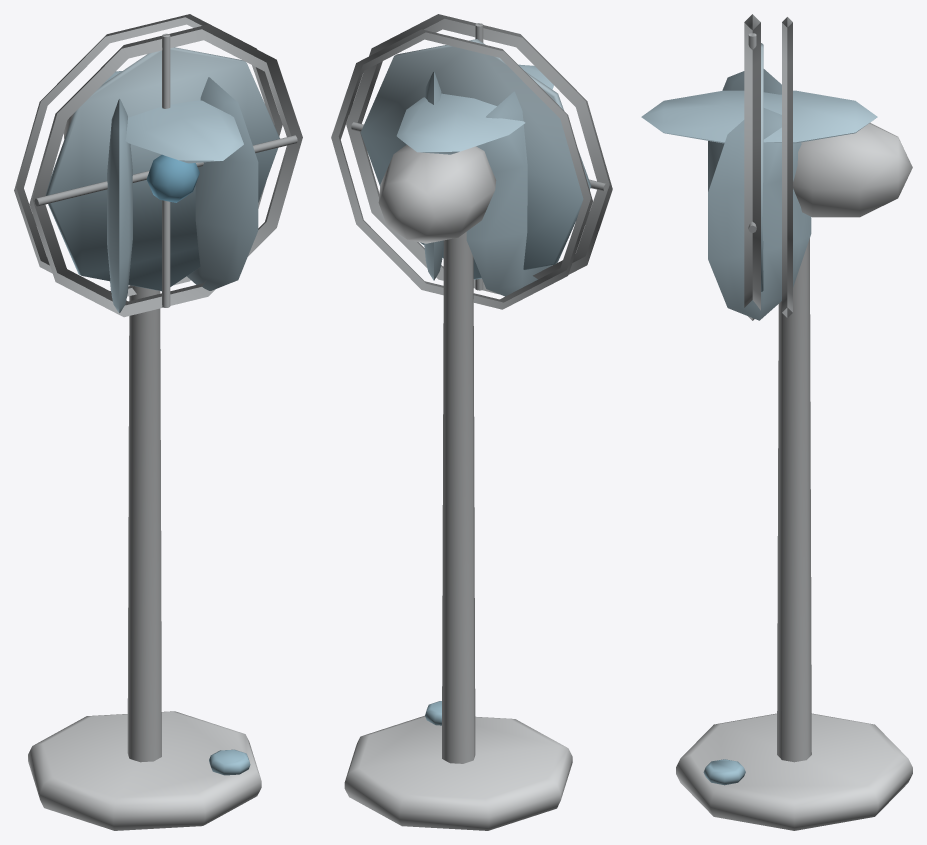
Rendered from electric_fan.glb.
3 views of the same model, side by side, from view 1: azimuth 30°, elevation 25°; view 2: azimuth 150°, elevation 25°; view 3: azimuth 270°, elevation 25° (orthographic). The views are drawn at different scales.
Parts seen in each view (by area): view 1: electric_fan; view 2: electric_fan; view 3: electric_fan.
Part boxes in pixels (x1,y1,x2,y2): electric_fan: (14, 14, 302, 830); electric_fan: (331, 14, 612, 830); electric_fan: (641, 14, 912, 830).
Bounding box in the file's own units: 0.444 × 1.19 × 0.39.
